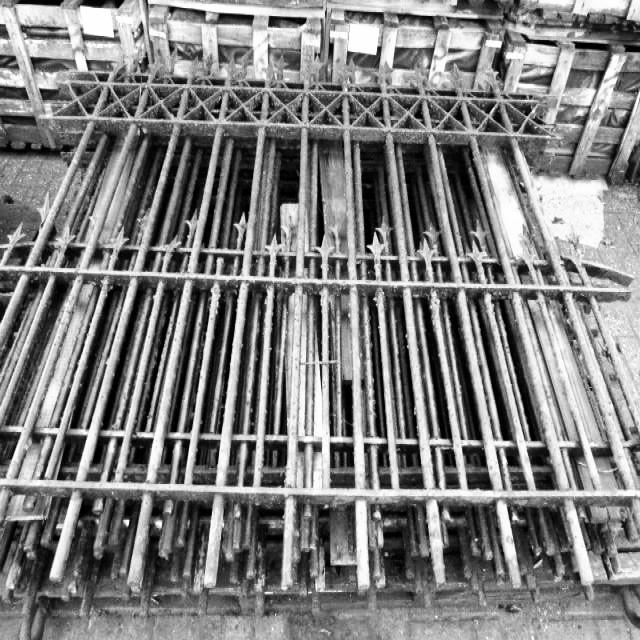fences: (65, 56, 640, 639)
